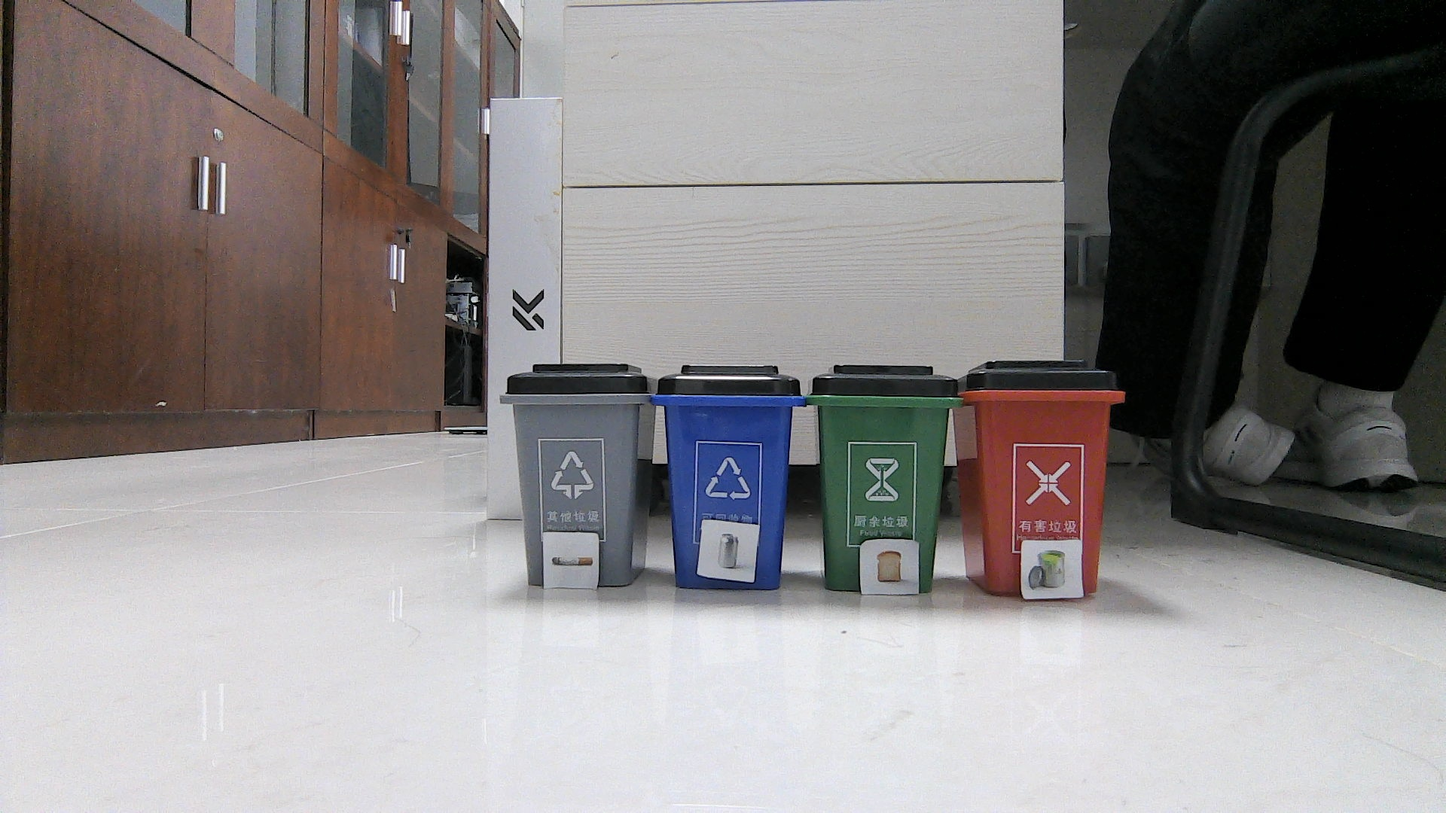food_trash: (866, 543, 913, 590)
hazardous_trash: (1025, 544, 1075, 594)
other_trash: (545, 536, 597, 584)
recyclable_trash: (707, 525, 753, 576)
